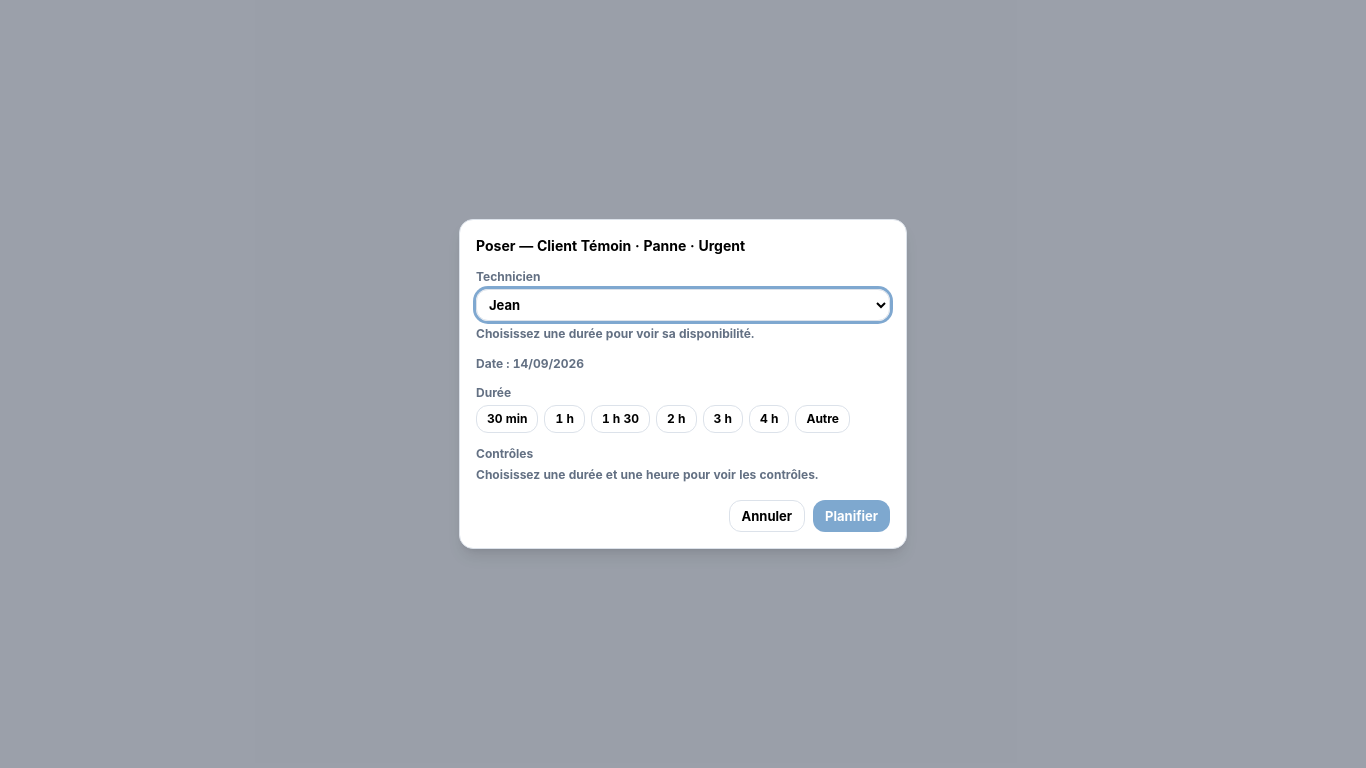
le libellé sous « Technicien », une fois l'heure choisie (9F3B point 3) › JOUR FERMÉ CONFIRMABLE — la sonde dit « absent », mais le verdict est confirmable : le nouveau libellé, jamais « Absent ce jour-là »
Click the button "1 h". click: (565, 419)
box: [544,405,585,433]
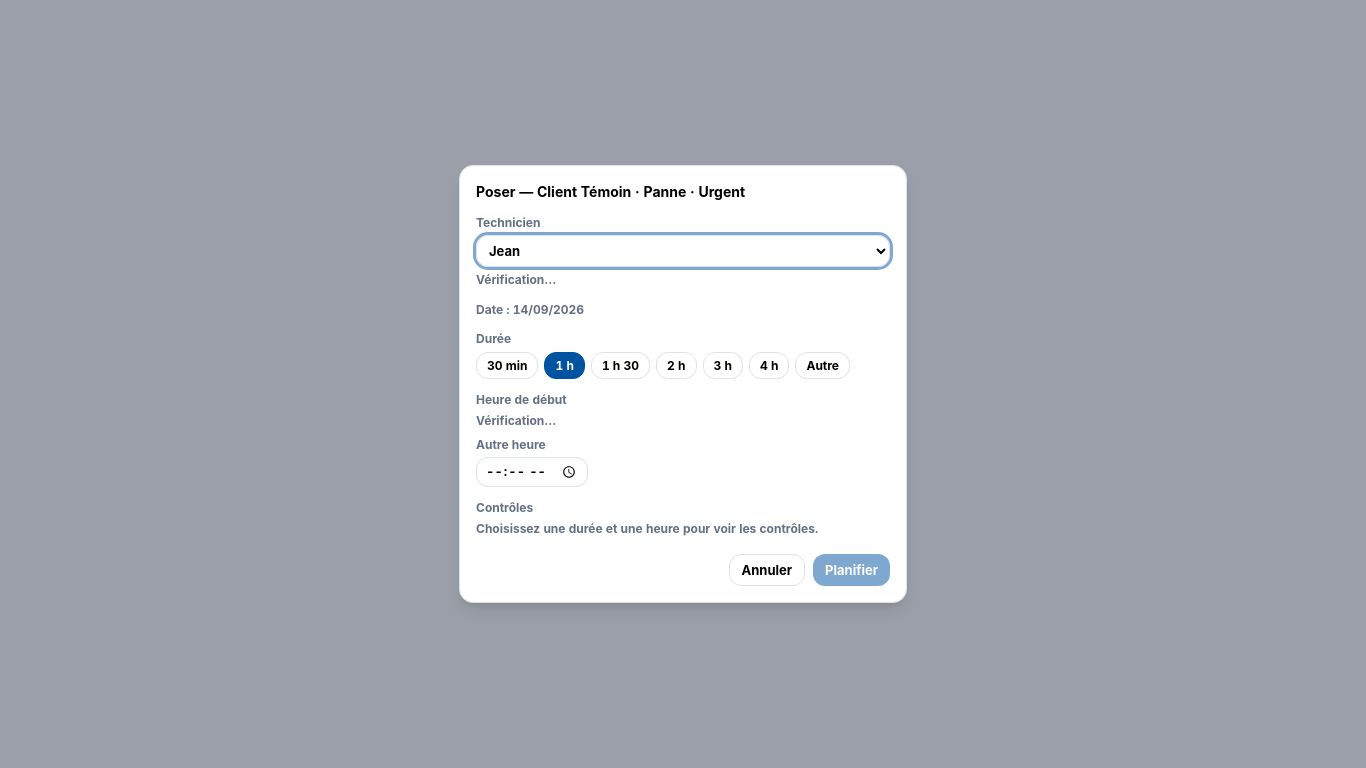
Type "09:00" into the time field labelled "Autre heure". click: (532, 472)
box: [476,457,588,487]
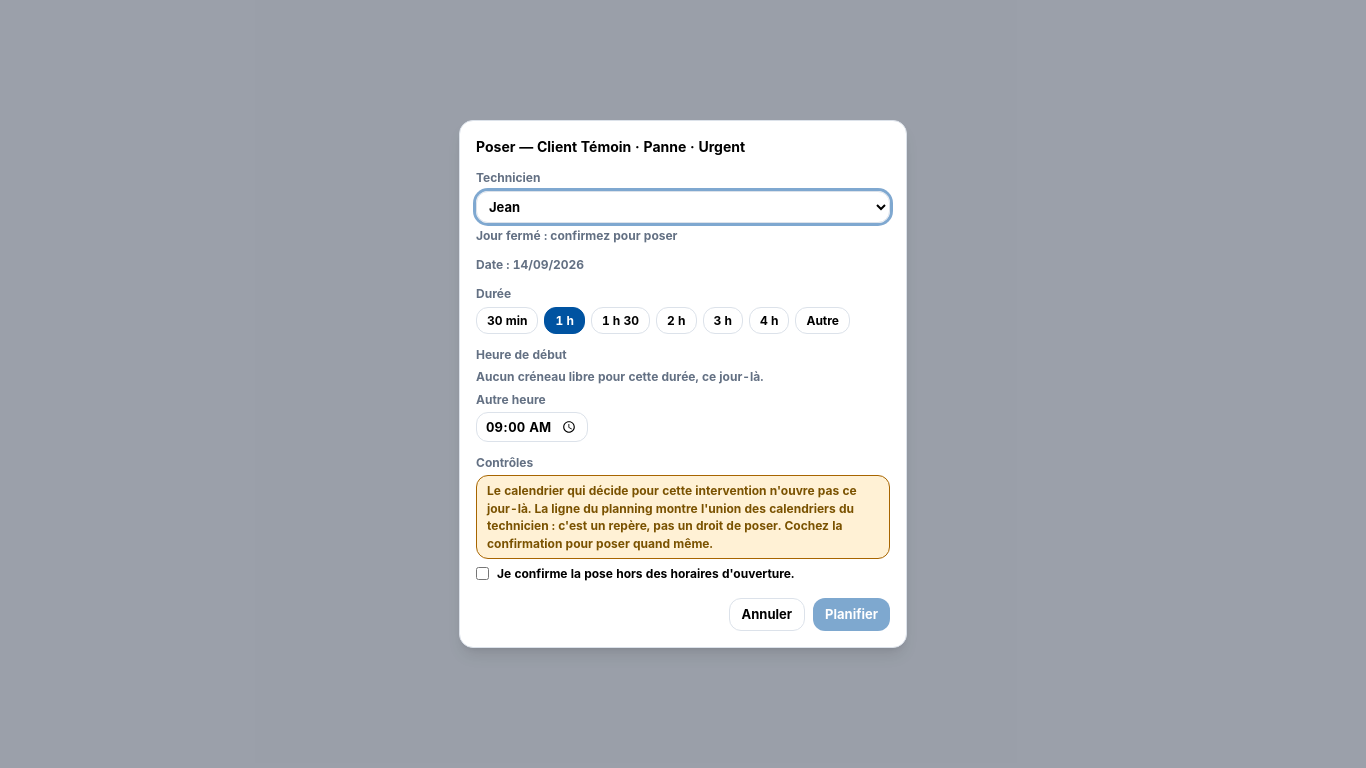
Result: the text "Jour fermé : confirmez pour poser" is shown at [476,228,678,243]
